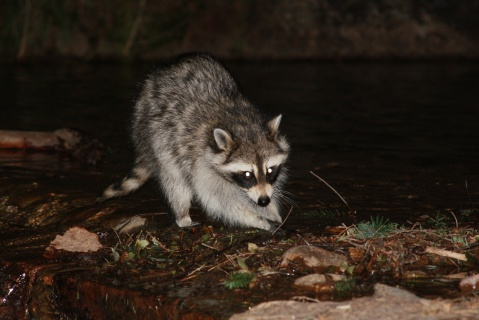Raccoon: (94, 52, 301, 230)
